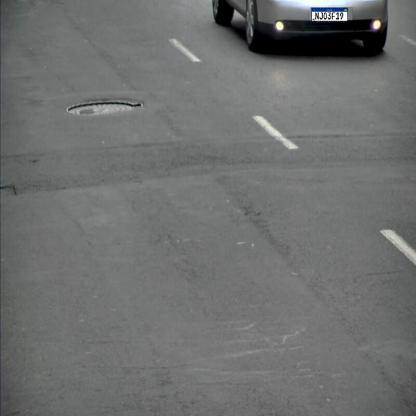PlacaM: (311, 8, 348, 22)
